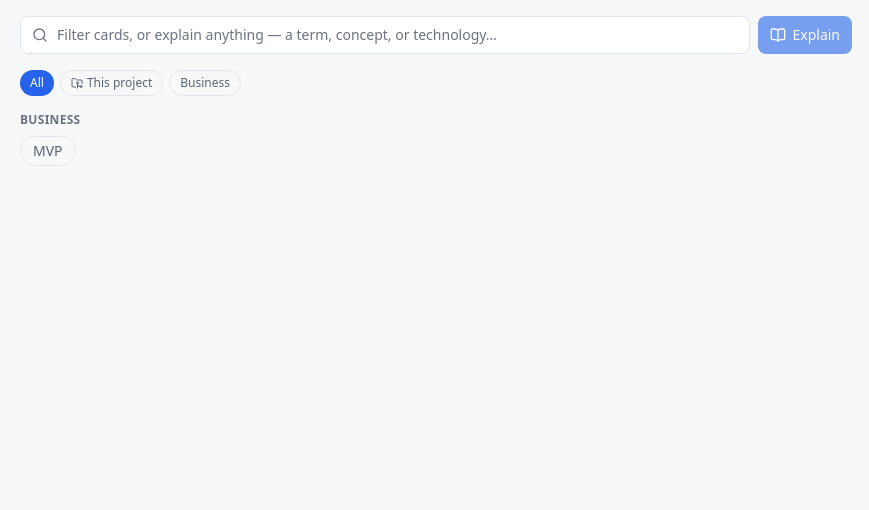
Test case: UnderstandHub › browses seeded cards and opens one
Click the button "MVP". click: (48, 151)
box: [20,136,76,166]
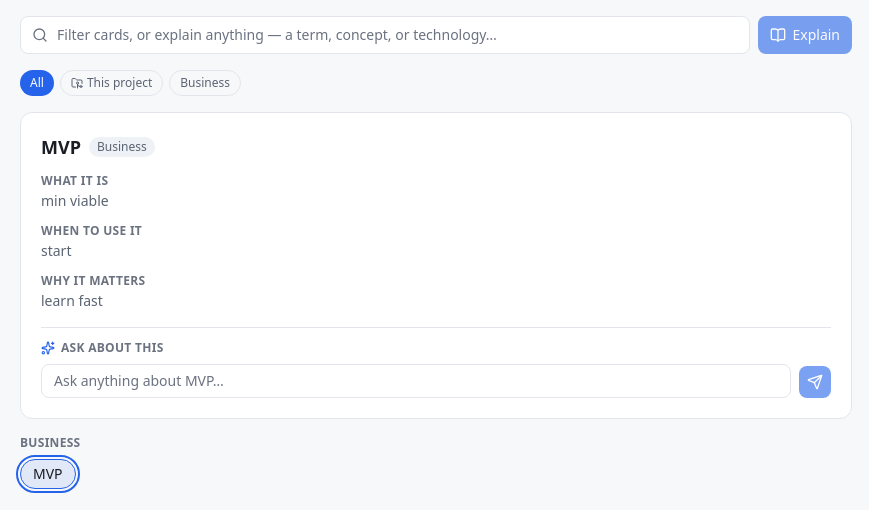
Check: the text "min viable" is shown, box [41,191,109,210]
